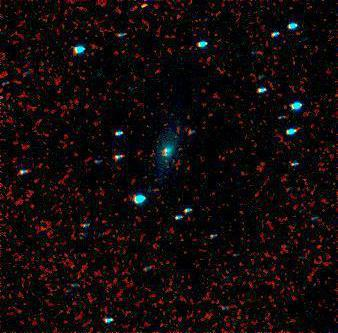star: (129, 0, 159, 21)
